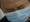with_mask: (1, 1, 30, 22)
